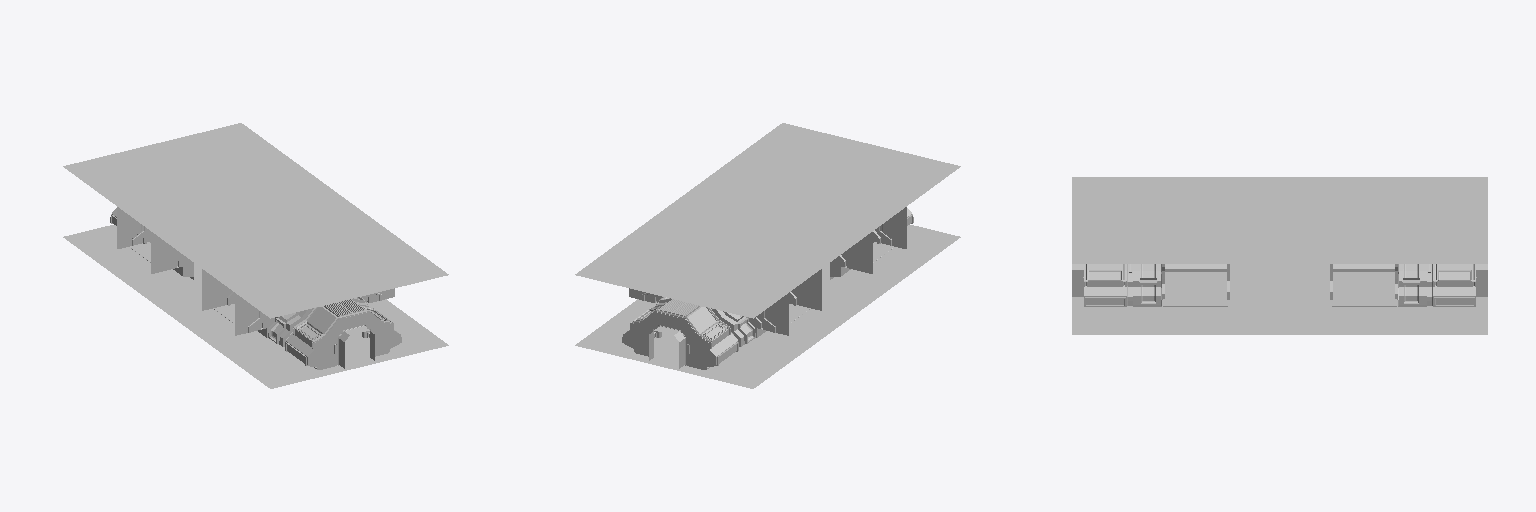
File: map_01.obj
The picture shows the model from 3 angles: view 1: azimuth 30°, elevation 25°; view 2: azimuth 150°, elevation 25°; view 3: azimuth 270°, elevation 25°; orthographic projection.
Parts seen in each view (by area): view 1: map1; view 2: map1; view 3: map1.
Boxes of the visible parts, x1=… form: map1: x1=63, y1=123, x2=448, y2=388; map1: x1=575, y1=123, x2=960, y2=388; map1: x1=1072, y1=177, x2=1487, y2=334.
Size of the model in its own units: 1439 by 542 by 2896.